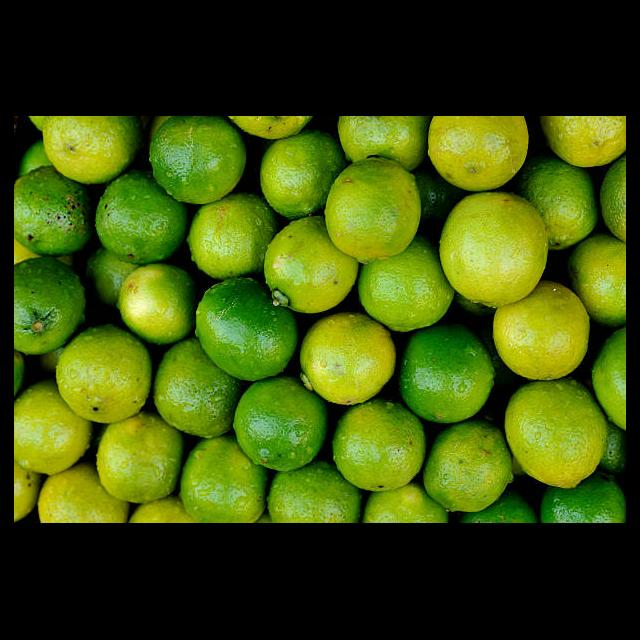lime: (440, 192, 550, 310), (324, 160, 422, 264), (233, 376, 328, 474), (148, 118, 249, 206), (14, 166, 93, 256)
